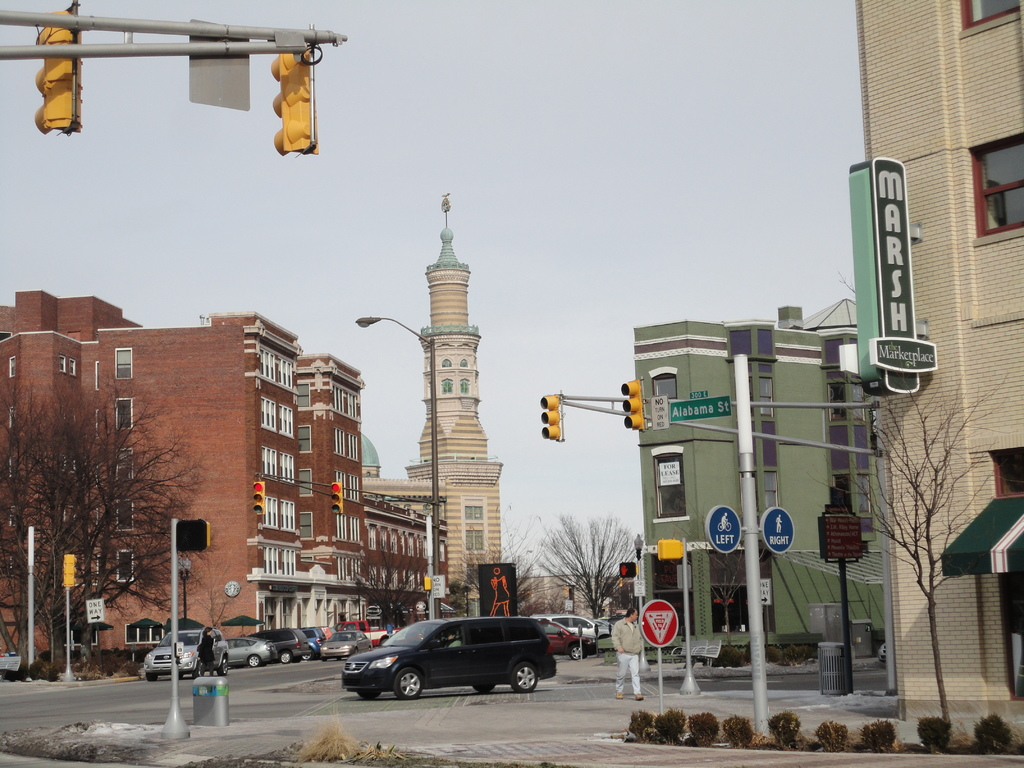red_light: (330, 481, 341, 493), (252, 481, 264, 492)
